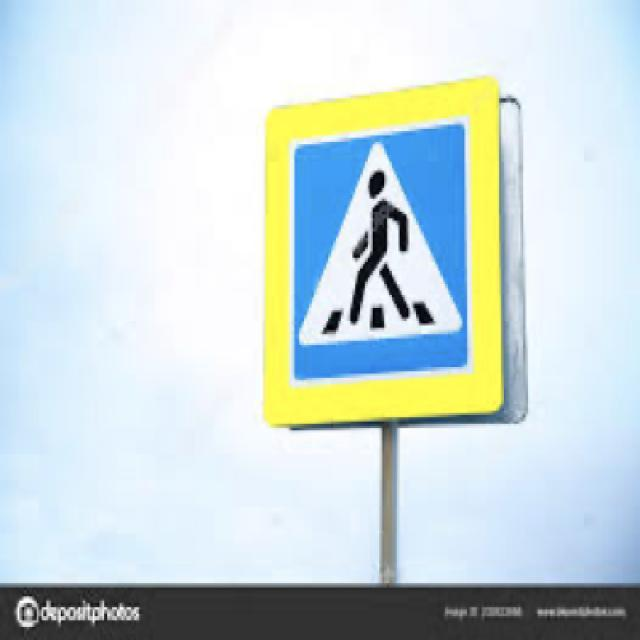crosswalk_sign: (285, 113, 474, 387)
